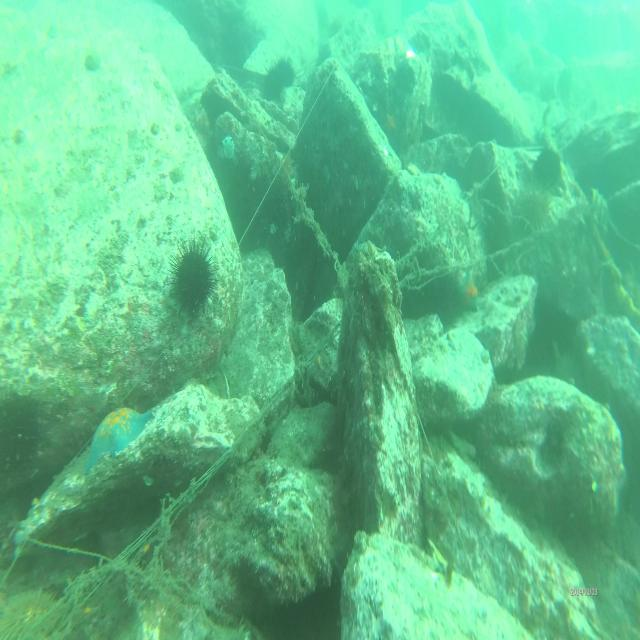echinus: (170, 243, 215, 320), (516, 179, 554, 233), (263, 58, 295, 104)
starfish: (82, 405, 154, 479), (458, 270, 484, 318), (380, 109, 400, 143)
